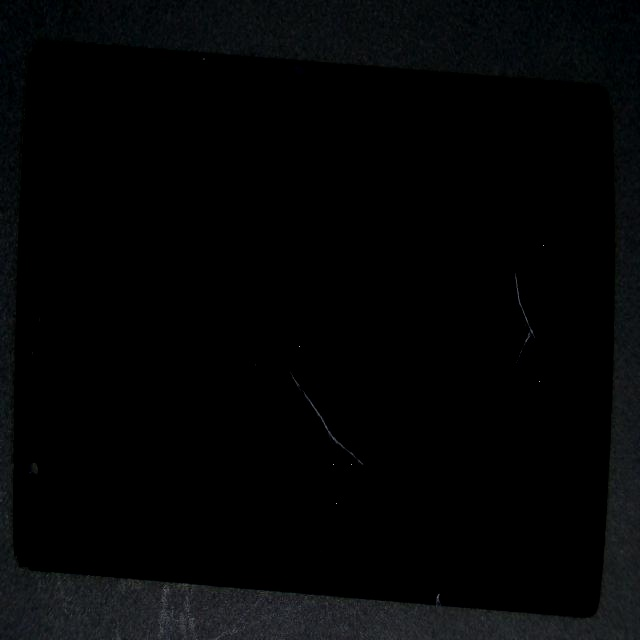scratch: (263, 160, 640, 512), (166, 109, 446, 511)
